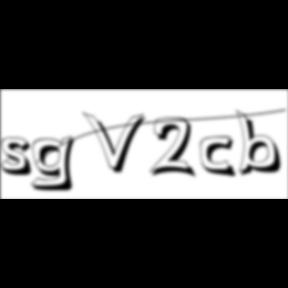2: (150, 117, 200, 181)
V: (84, 110, 150, 176)
b: (236, 109, 288, 179)
c: (200, 136, 240, 180)
g: (30, 134, 82, 194)
s: (1, 137, 40, 179)
